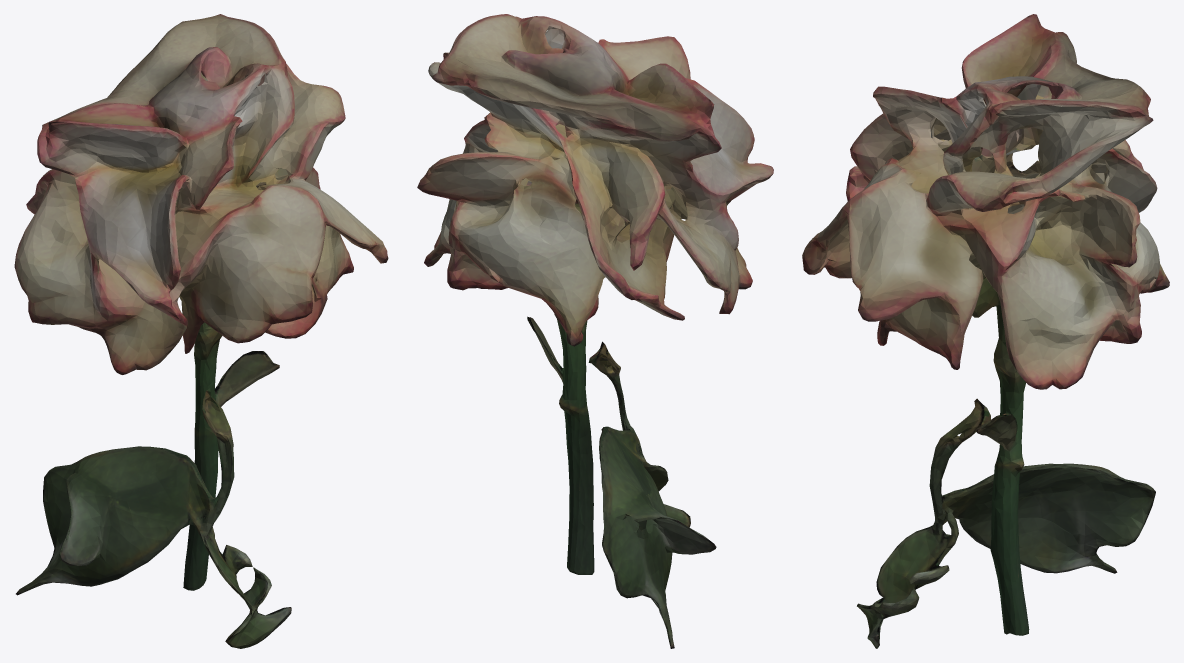
3 renders of one model, left to right at view 1: azimuth 30°, elevation 25°; view 2: azimuth 150°, elevation 25°; view 3: azimuth 270°, elevation 25°, orthographic. The views are drawn at different scales.
Parts seen in each view (by area): view 1: world; view 2: world; view 3: world.
Part boxes in pixels (bbox=[...]): world: bbox=[14, 14, 388, 648]; world: bbox=[417, 14, 773, 648]; world: bbox=[802, 14, 1169, 648].
Size of the model in its own units: 0.5665 by 0.9781 by 0.5487.
Materials: 1 (1 with a texture image).
